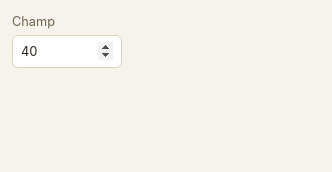
NumberField (R1) › champ vidé puis quitté : aucune modification, la valeur précédente revient
Replace the text in the number field labelled "Champ" with "4" at point(67, 52), box [12,35,122,68]
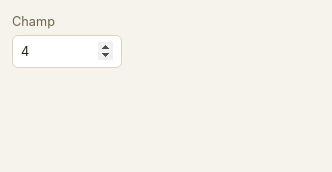
Clear the number field labelled "Champ" at point(67, 52), box [12,35,122,68]
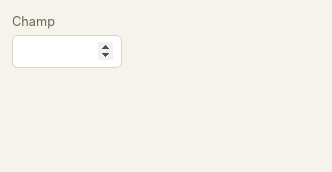
Leave the number field labelled "Champ", box [12,35,122,68]
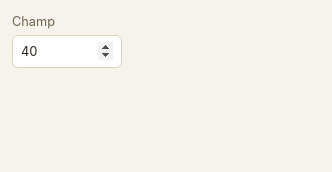
expect the number field labelled "Champ" holds "40": met, box [12,35,122,68]
